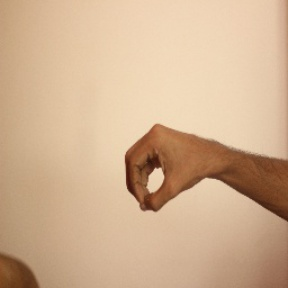O: (121, 118, 215, 216)
